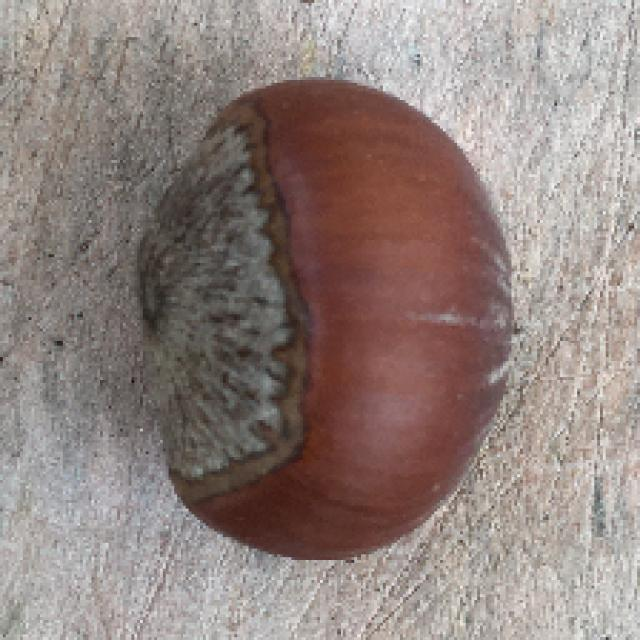qualityHazelnut: (145, 69, 525, 562)
